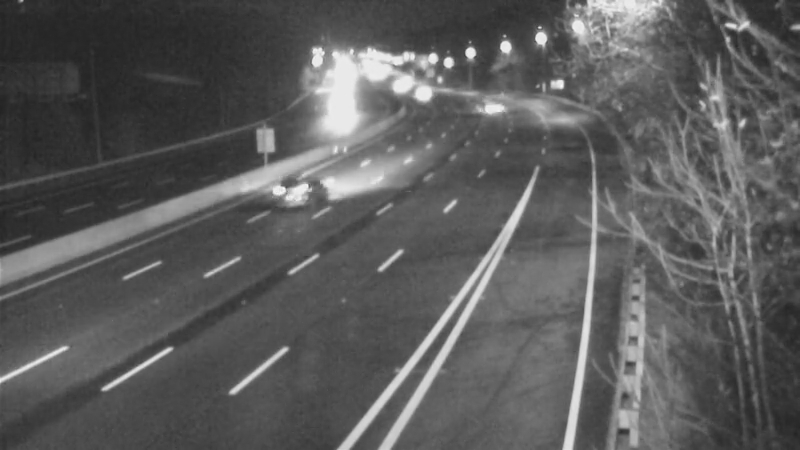vehicle: (251, 161, 331, 241), (400, 69, 450, 119), (466, 84, 516, 134)
